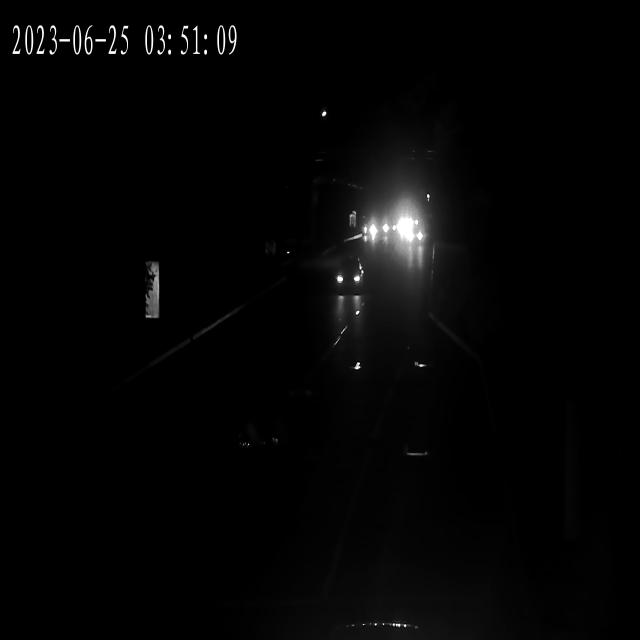Car: (334, 262, 364, 298), (364, 218, 395, 245), (400, 229, 426, 251), (396, 228, 422, 250), (394, 219, 418, 240), (393, 214, 416, 234)
